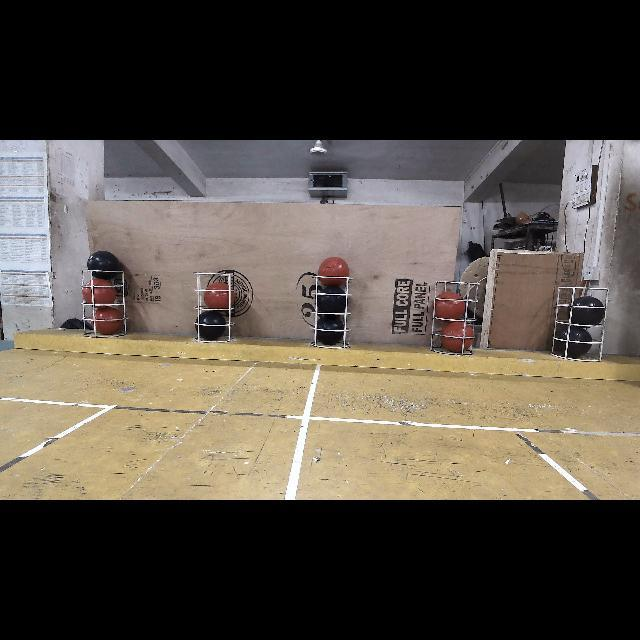P: (556, 326, 592, 358), (87, 251, 117, 282), (316, 318, 344, 344), (573, 300, 601, 326), (198, 312, 226, 338), (318, 290, 346, 314)
R: (319, 256, 350, 286), (440, 322, 472, 350), (86, 280, 120, 306), (202, 282, 232, 310), (434, 294, 464, 320), (91, 310, 123, 332)
S: (550, 282, 606, 363), (79, 266, 135, 342), (428, 278, 479, 356), (310, 274, 356, 350), (192, 270, 236, 344)
